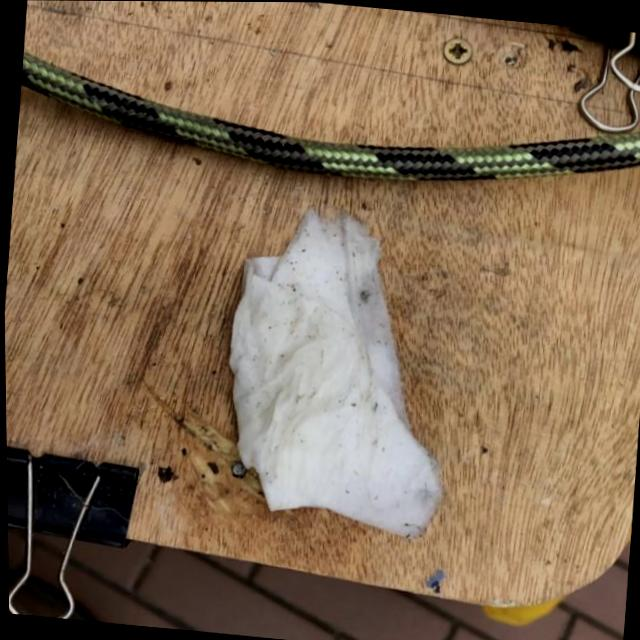Paper: (206, 195, 468, 548)
